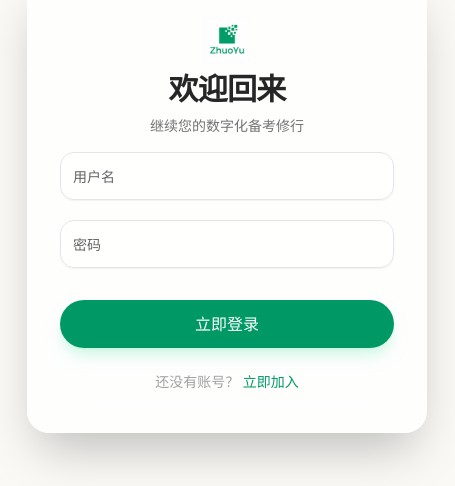
Test: LoginPage 集成测试 › 提交表单时，按钮应显示加载状态且不可再次点击
This screenshot has width=455, height=486.
Type "admin" into the field with placeholder "用户名".
click(227, 176); type("admin")  # box top-left (60, 152), bottom-right (394, 200)
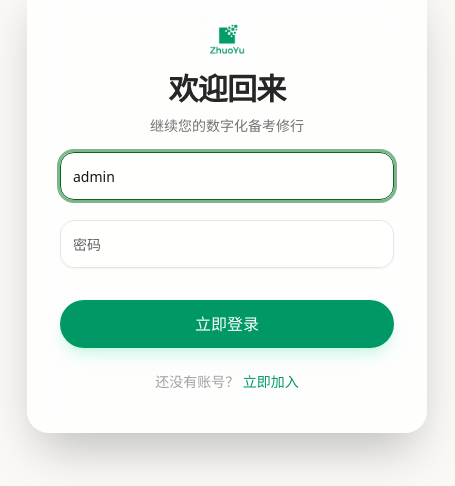
Type "password123" into the password field with placeholder "密码".
click(227, 244); type("password123")  # box top-left (60, 220), bottom-right (394, 268)
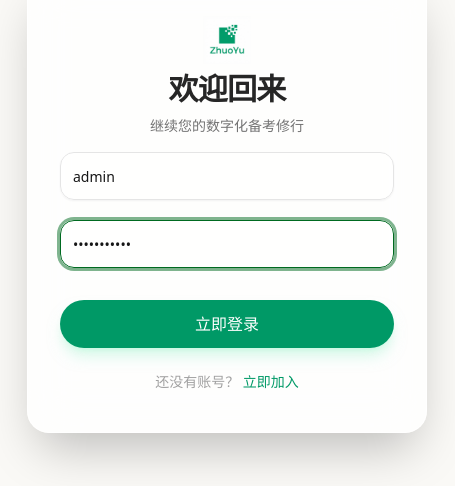
Click the button "立即登录".
click(227, 324)  # box top-left (60, 300), bottom-right (394, 348)
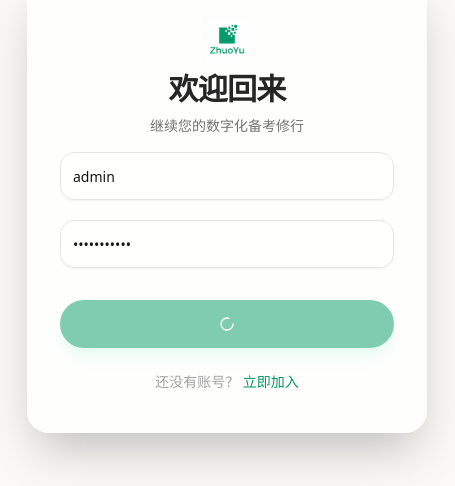
Expected: the button named "立即登录" is disabled, top-left (60, 300), bottom-right (394, 348)
Expected: the button "立即登录" is gone
